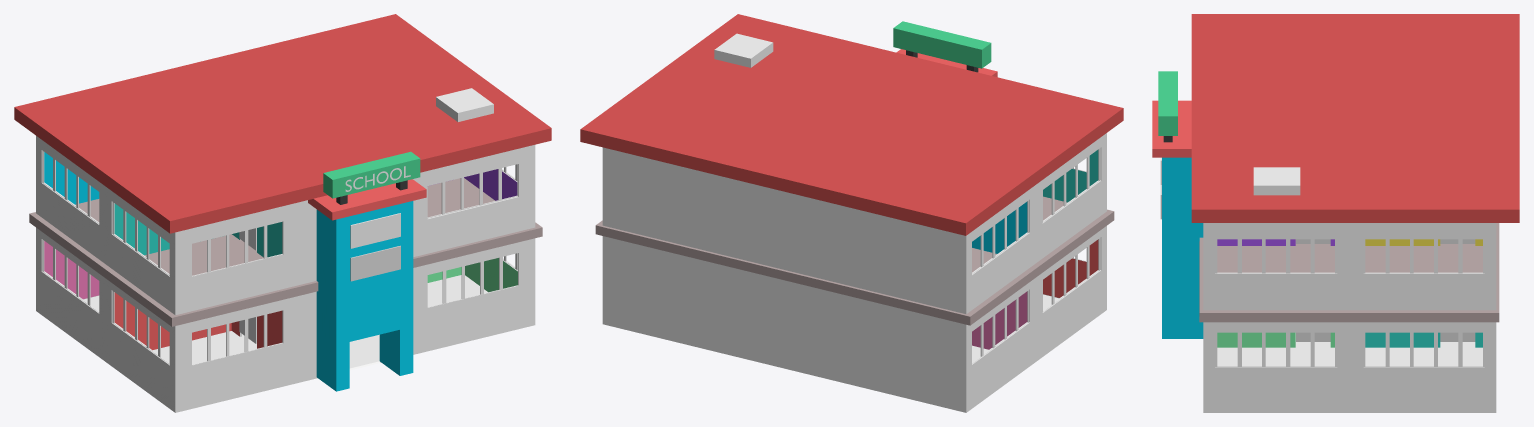
Rendered from school.fbx.
The picture shows the model from 3 angles, left to right: view 1: azimuth 30°, elevation 25°; view 2: azimuth 150°, elevation 25°; view 3: azimuth 270°, elevation 25°; orthographic projection. The views are drawn at different scales.
Visible parts, largest first — view 1: BODY_LOD0; view 2: BODY_LOD0; view 3: BODY_LOD0.
Boxes of the visible parts, x1=… form: BODY_LOD0: x1=14, y1=14, x2=551, y2=412; BODY_LOD0: x1=580, y1=14, x2=1123, y2=412; BODY_LOD0: x1=1152, y1=14, x2=1519, y2=412.
Size of what is drawn, in the model's own units: 1063 by 574 by 843.
